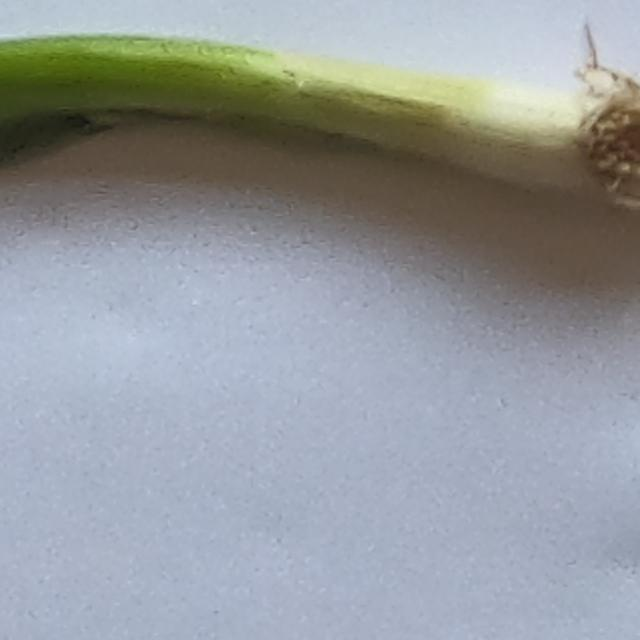green_onion: (0, 36, 640, 229)
